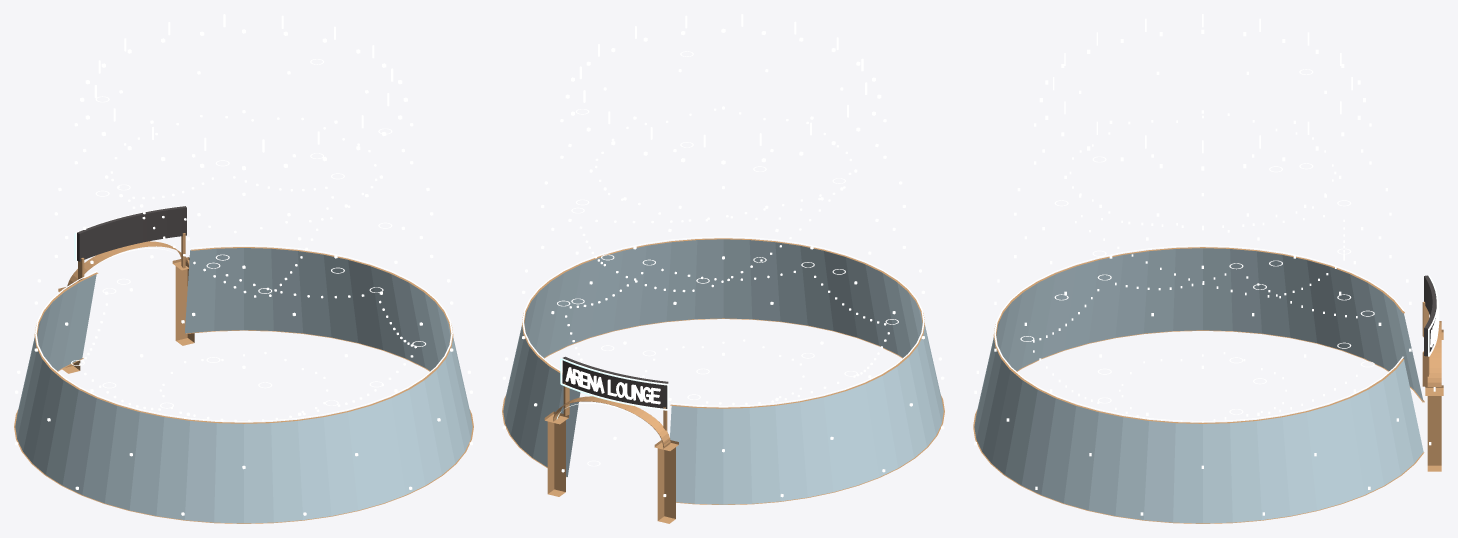
File: decor.glb
3 views of the same model, side by side, from view 1: azimuth 30°, elevation 25°; view 2: azimuth 150°, elevation 25°; view 3: azimuth 270°, elevation 25° (orthographic). The views are drawn at different scales.
Visible parts, largest first — view 1: facade, lights, marquee, facade_rail, portal, facade_glow; view 2: facade, portal, lights, facade_rail, marquee, facade_glow, neon, marquee_frame; view 3: facade, lights, facade_rail, portal, facade_glow, marquee.
Boxes of the visible parts, x1,y1,x2,y2 form: facade: (15, 248, 472, 523); lights: (15, 14, 472, 515); marquee: (77, 206, 186, 261); facade_rail: (14, 247, 473, 523); portal: (58, 233, 194, 373); facade_glow: (35, 245, 452, 421); facade: (503, 239, 943, 504); portal: (544, 382, 678, 523); lights: (502, 14, 944, 497); facade_rail: (502, 238, 944, 504); marquee: (562, 356, 668, 408); facade_glow: (522, 236, 924, 406); neon: (565, 367, 660, 404); marquee_frame: (560, 358, 668, 410); facade: (974, 248, 1423, 523); lights: (974, 14, 1431, 515); facade_rail: (973, 247, 1424, 523); portal: (1422, 301, 1443, 471); facade_glow: (994, 245, 1404, 421); marquee: (1424, 275, 1436, 356).
Size of what is drawn, in the model's own units: 29.85 by 26.05 by 30.58.
